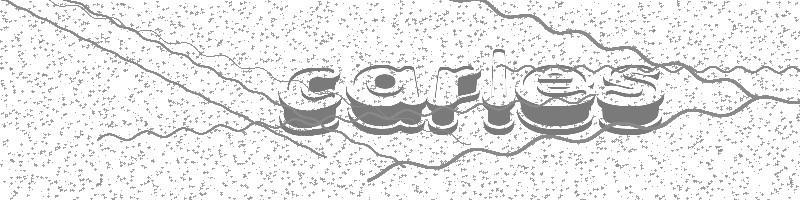a: (345, 63, 426, 135)
c: (277, 66, 341, 136)
e: (516, 63, 595, 135)
l: (482, 47, 515, 135)
r: (427, 64, 481, 135)
s: (597, 63, 663, 135)
